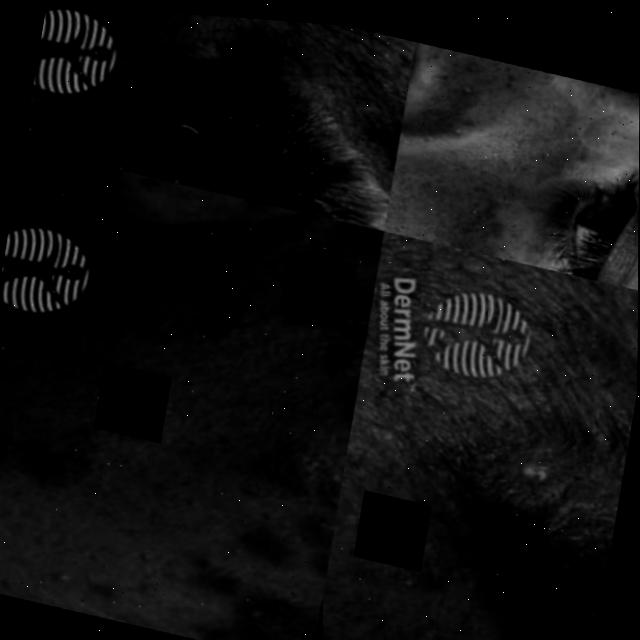lupus-detected: (0, 181, 378, 640), (23, 2, 412, 233), (436, 377, 633, 640), (390, 40, 621, 248), (384, 143, 590, 277), (546, 93, 640, 292)
